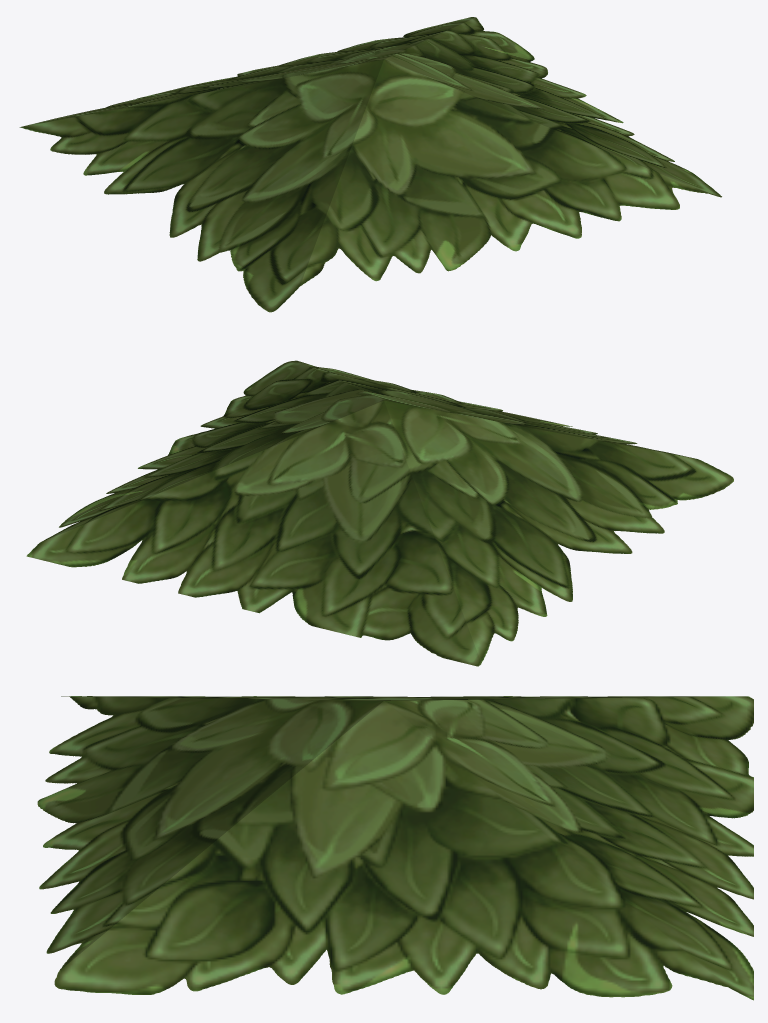
The model's file is fanasty_mod_shrub01.fbx.
The picture shows the model from 3 angles, top to bottom: view 1: azimuth 30°, elevation 25°; view 2: azimuth 150°, elevation 25°; view 3: azimuth 270°, elevation 25°; orthographic projection. The views are drawn at different scales.
Parts seen in each view (by area): view 1: shrub_01; view 2: shrub_01; view 3: shrub_01.
Boxes of the visible parts, left/top/right/bottom form: shrub_01: left=19, top=17, right=721, bottom=312; shrub_01: left=26, top=360, right=733, bottom=666; shrub_01: left=37, top=696, right=753, bottom=1000.
Size of the model in its own units: 1.36 by 0.3083 by 1.36.
